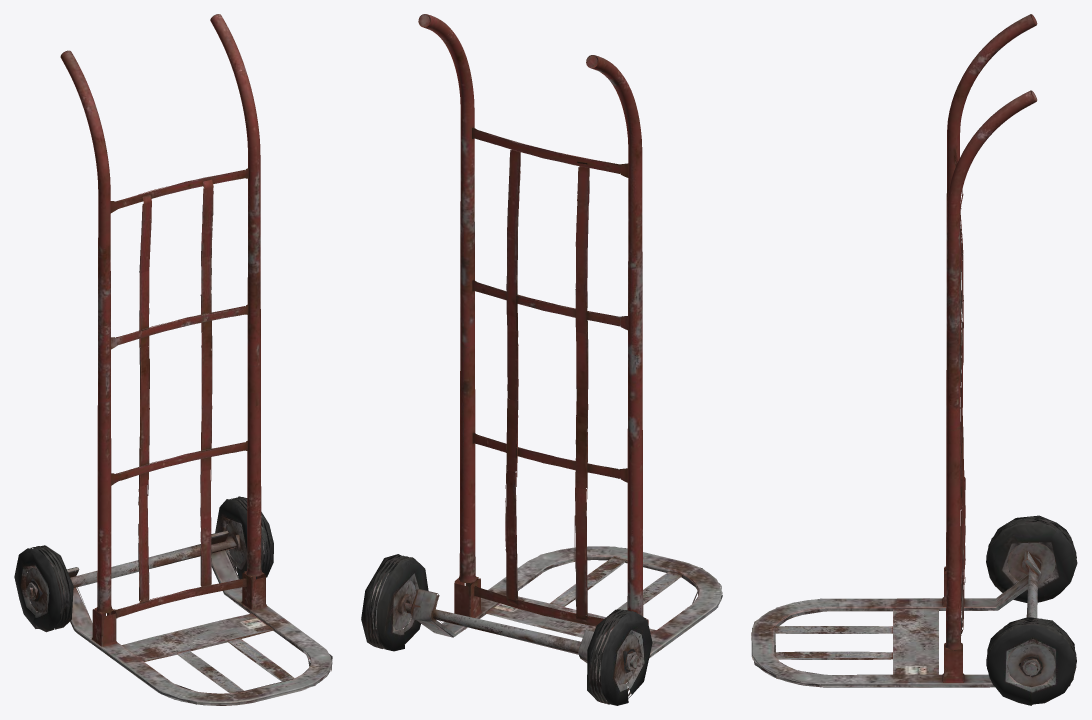
The model's file is ph_hand_truck.glb.
3 renders of one model, left to right at view 1: azimuth 30°, elevation 25°; view 2: azimuth 150°, elevation 25°; view 3: azimuth 270°, elevation 25°, orthographic. The views are drawn at different scales.
Parts seen in each view (by area): view 1: hand_truck; view 2: hand_truck; view 3: hand_truck.
Part boxes in pixels (x1=…): hand_truck: x1=14, y1=14, x2=332, y2=705; hand_truck: x1=361, y1=14, x2=722, y2=705; hand_truck: x1=751, y1=14, x2=1077, y2=705.
Bounding box in the file's own units: 0.5933 × 1.4 × 0.6942.
Materials: 1 (1 with a texture image).
